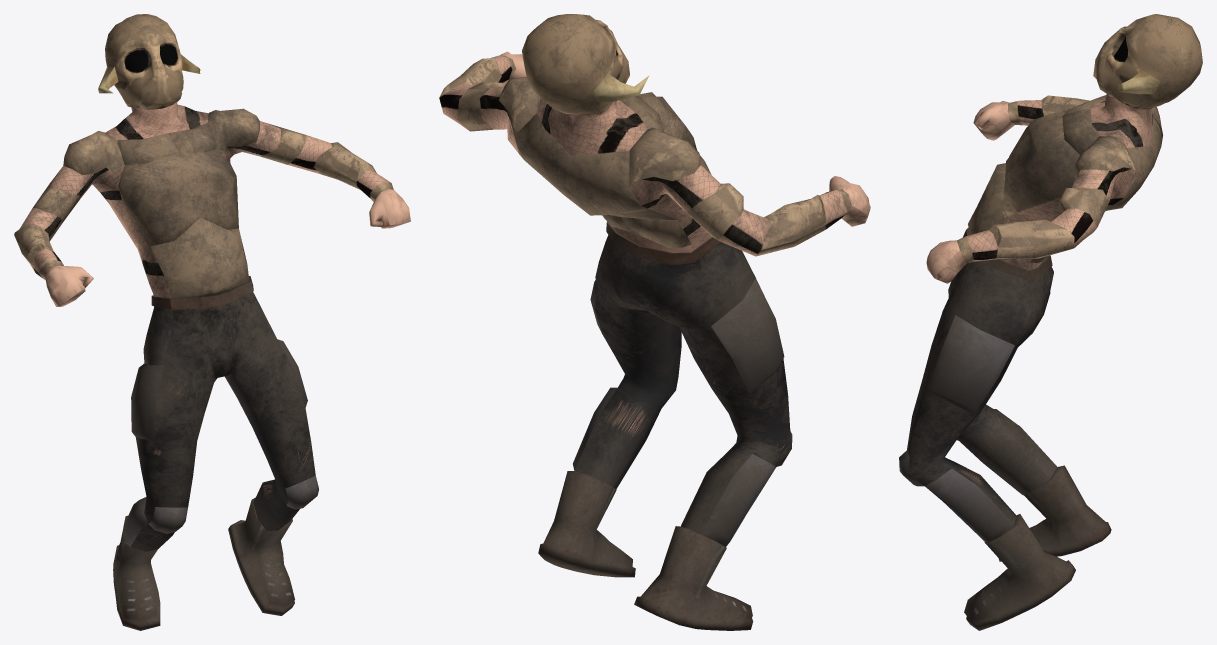
The model's file is Anim_morir_npc1.0016.obj.
3 renders of one model, left to right at view 1: azimuth 30°, elevation 25°; view 2: azimuth 150°, elevation 25°; view 3: azimuth 270°, elevation 25°, orthographic. The views are drawn at different scales.
Parts seen in each view (by area): view 1: NPC2; view 2: NPC2; view 3: NPC2.
Boxes of the visible parts, bbox=[...] form: NPC2: bbox=[14, 14, 410, 630]; NPC2: bbox=[439, 14, 870, 630]; NPC2: bbox=[899, 14, 1202, 630].
Size of the model in its own units: 5.46 by 8.5 by 4.02.
